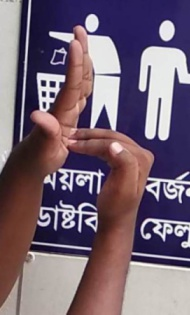ga: (17, 23, 154, 229)
